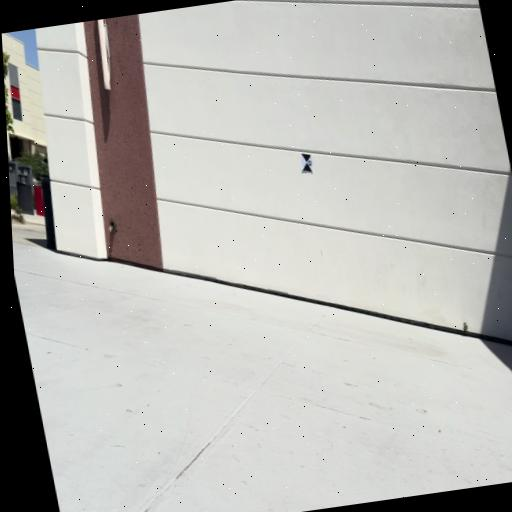target0: (301, 152, 314, 174)
